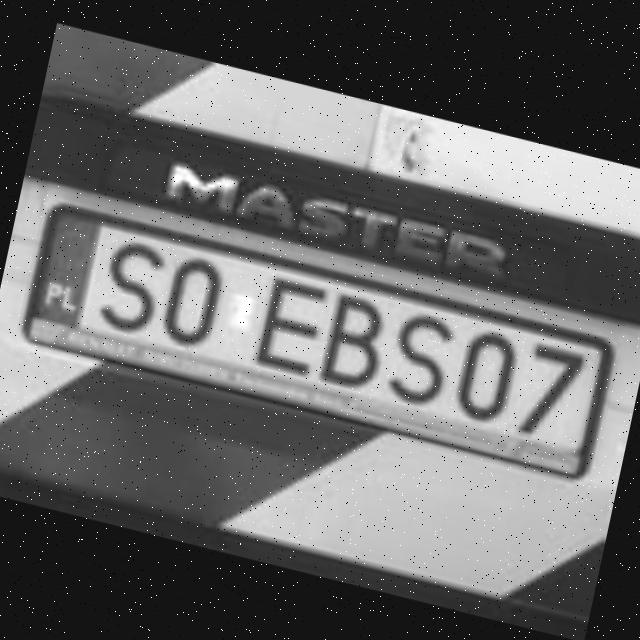license-plates: (32, 209, 608, 452)
